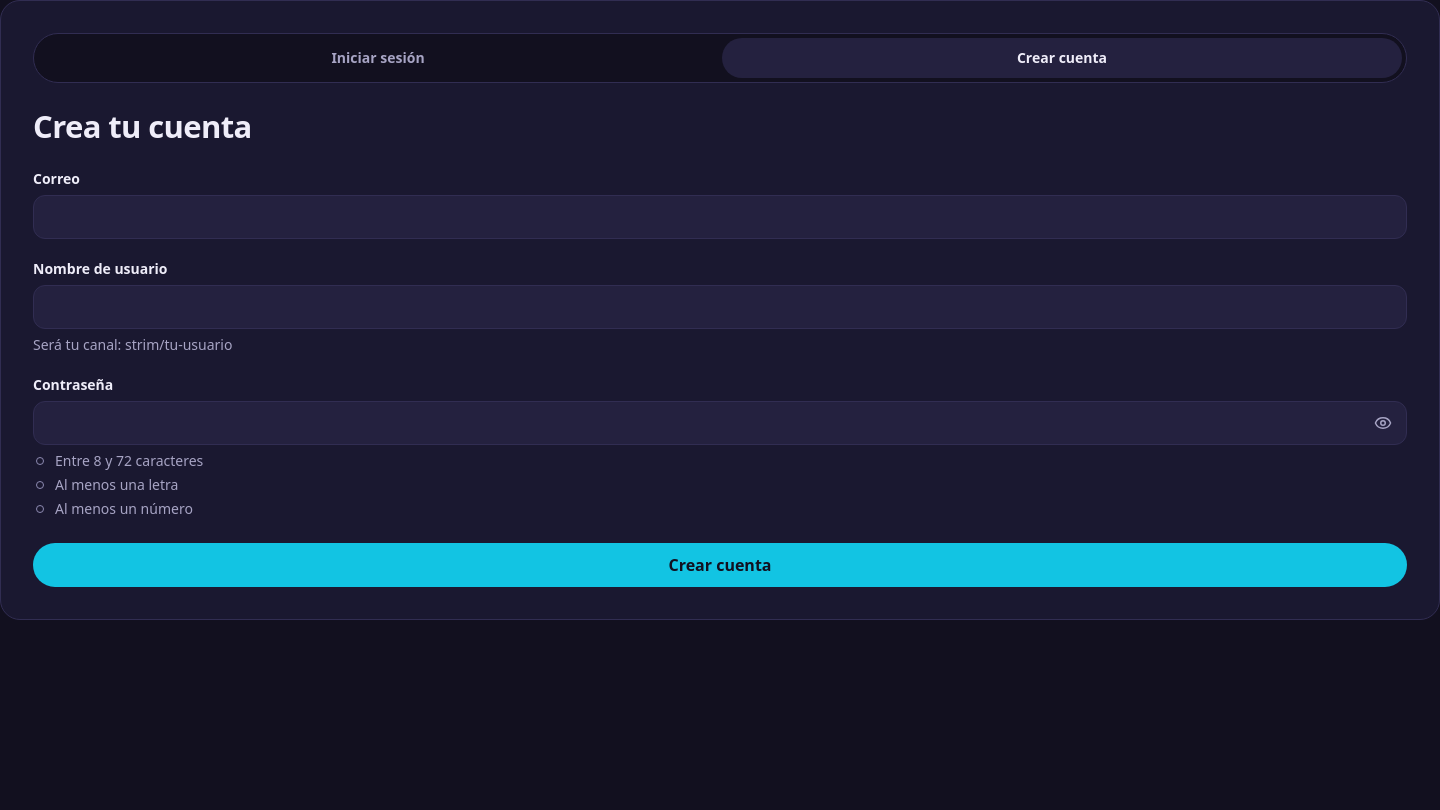
Test case: RegisterPage › al enviar con errores, el foco va al primer campo con error
This screenshot has width=1440, height=810.
In the field labelled "Nombre de usuario": (720, 307) [33,285,1407,329], type "ab"
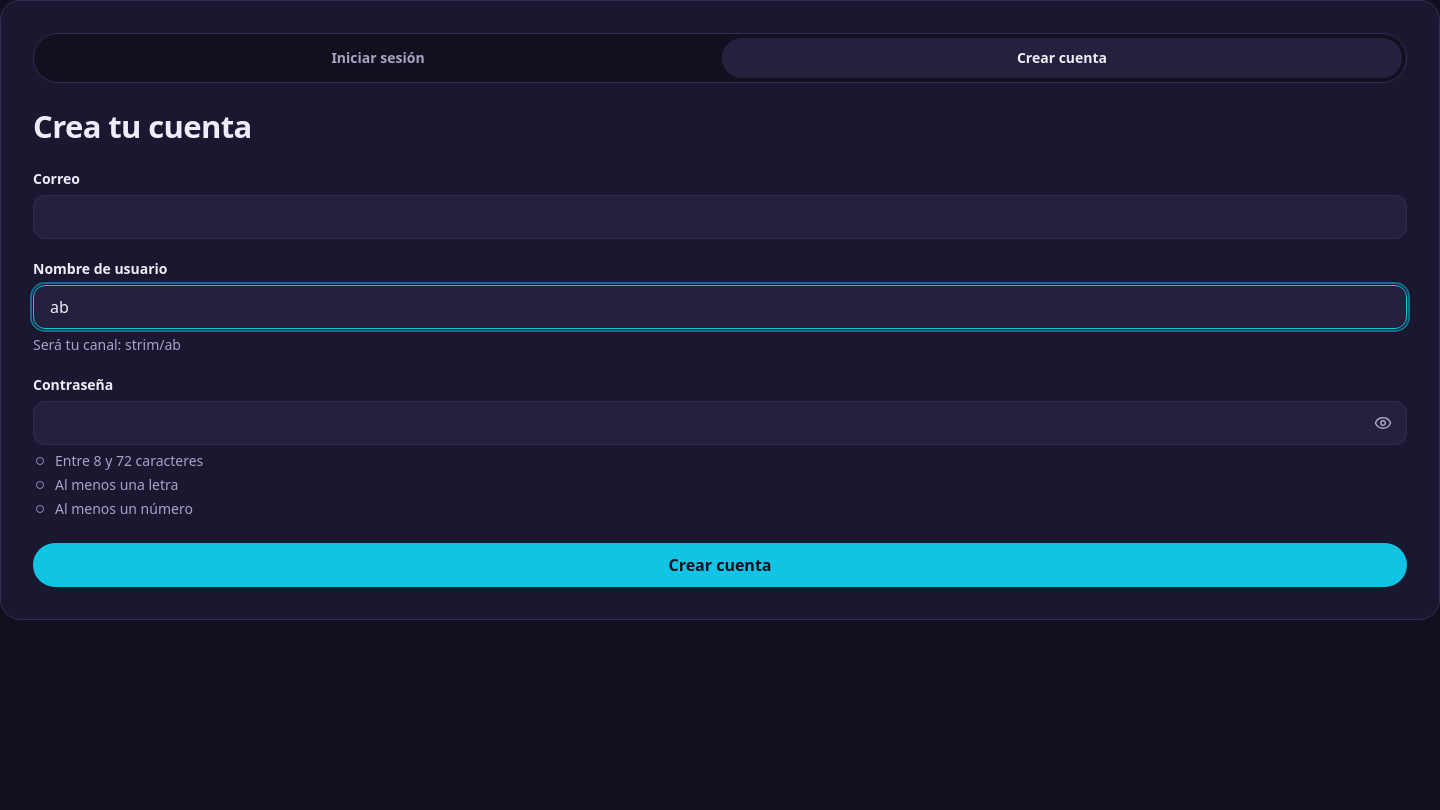
Click the button "Crear cuenta": (720, 565) [33,543,1407,587]
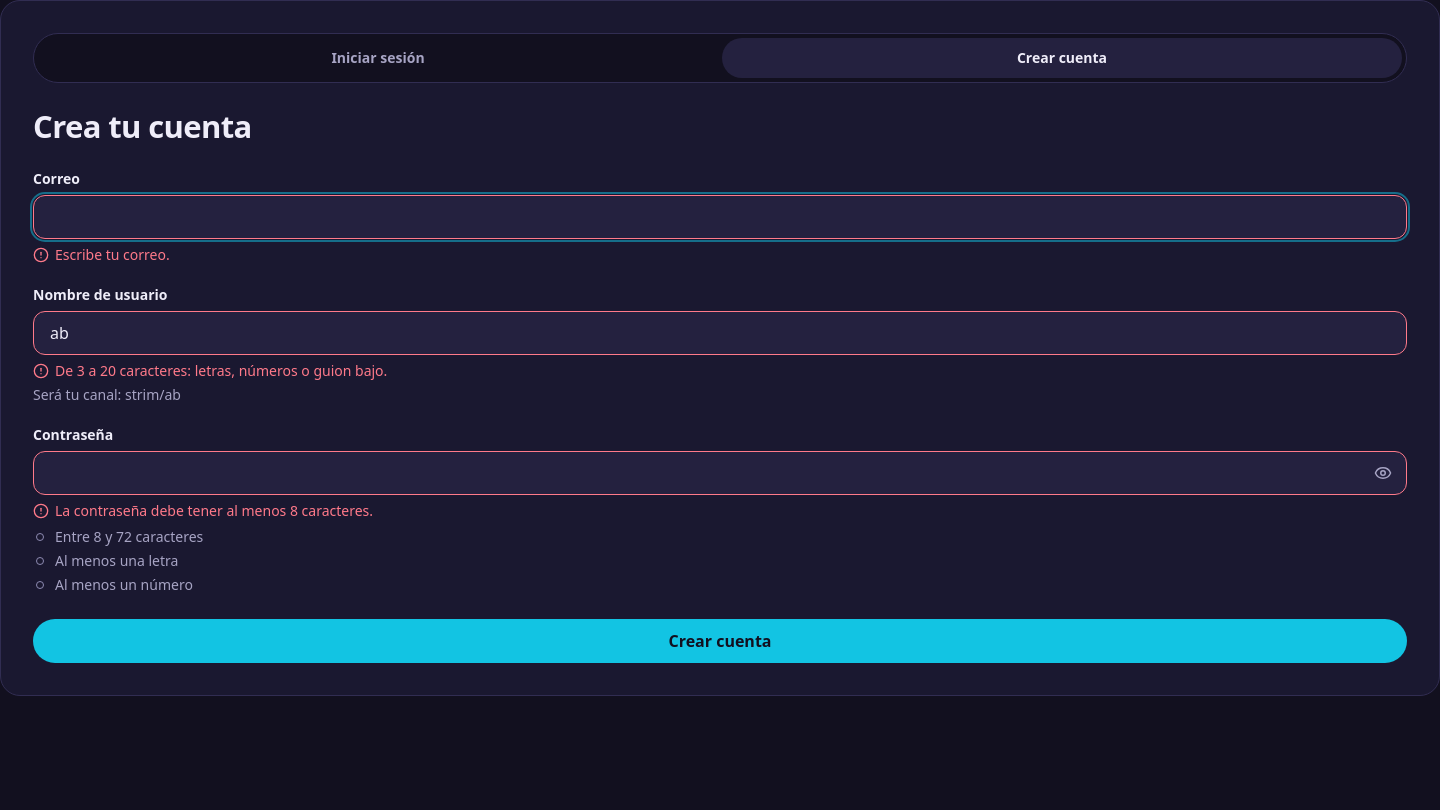
Expected: the text "Escribe tu correo." is shown, [33,245,170,265]
Expected: the text "De 3 a 20 caracteres: letras, números o guion bajo." is shown, [33,361,387,381]
Expected: the text "La contraseña debe tener al menos 8 caracteres." is shown, [33,501,373,521]
